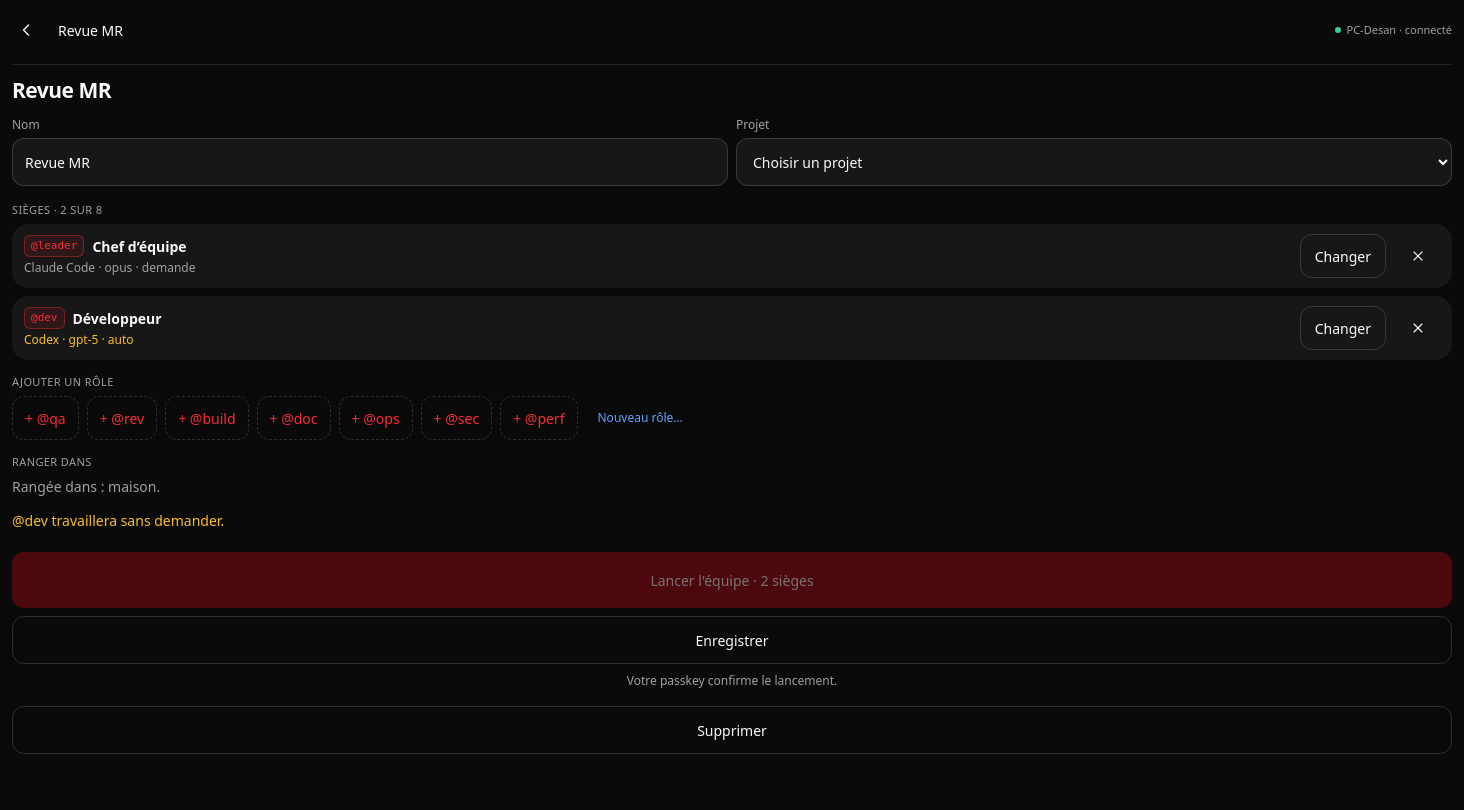
Test case: the team editor, seats › removing every seat disables launch and save
Select "ledge" in the dropdown labelled "Projet". click: (1094, 162)
box: top-left (736, 138), bottom-right (1452, 186)
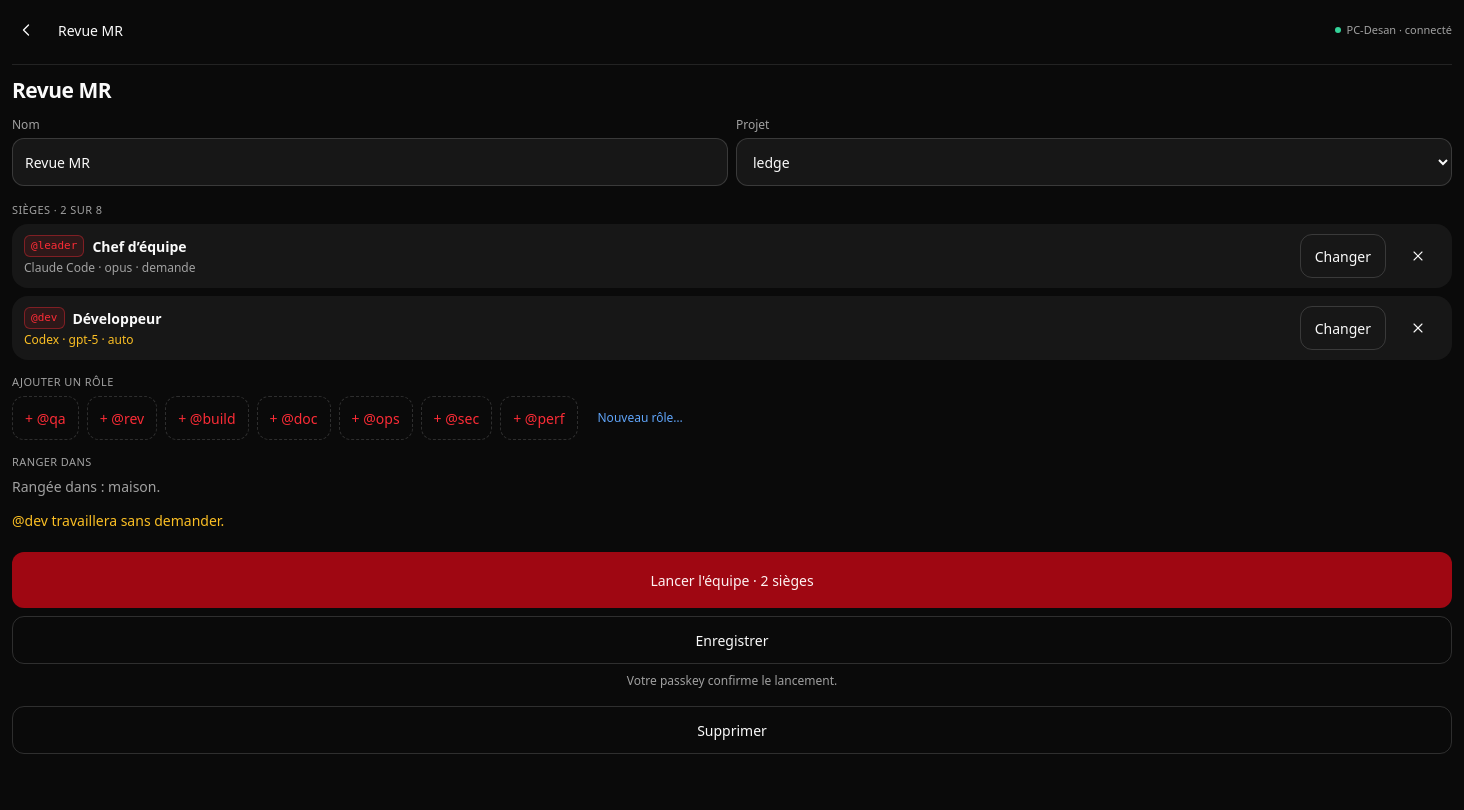
Expected: the button "Enregistrer" is enabled, top-left (12, 616), bottom-right (1452, 664)
Expected: the button "Lancer l'équipe · 2 sièges" is enabled, top-left (12, 552), bottom-right (1452, 608)
Click the button named "Retirer @leader". click: (1418, 256)
box: top-left (1396, 234), bottom-right (1440, 278)
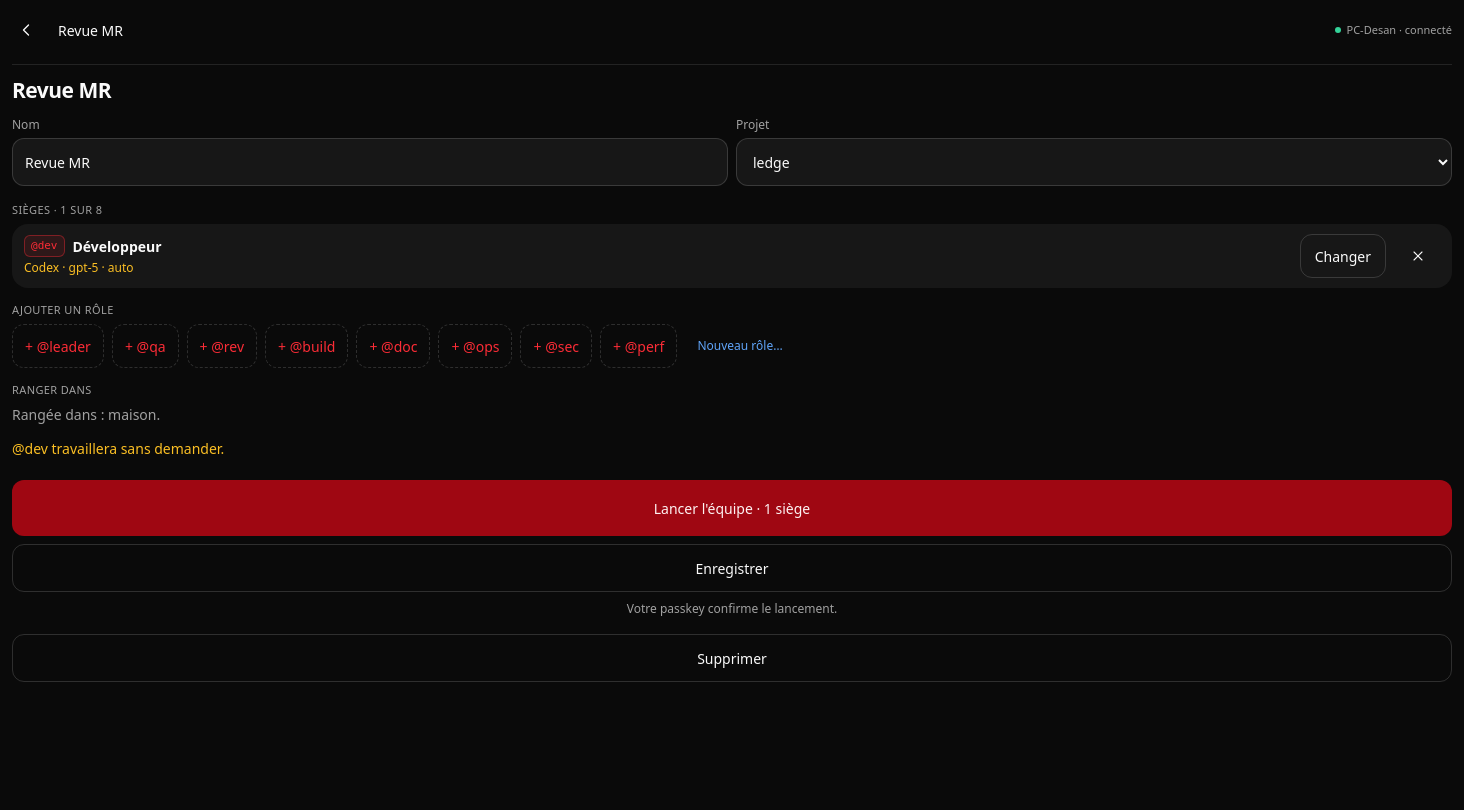
Click the button named "Retirer @dev". click: (1418, 256)
box: top-left (1396, 234), bottom-right (1440, 278)
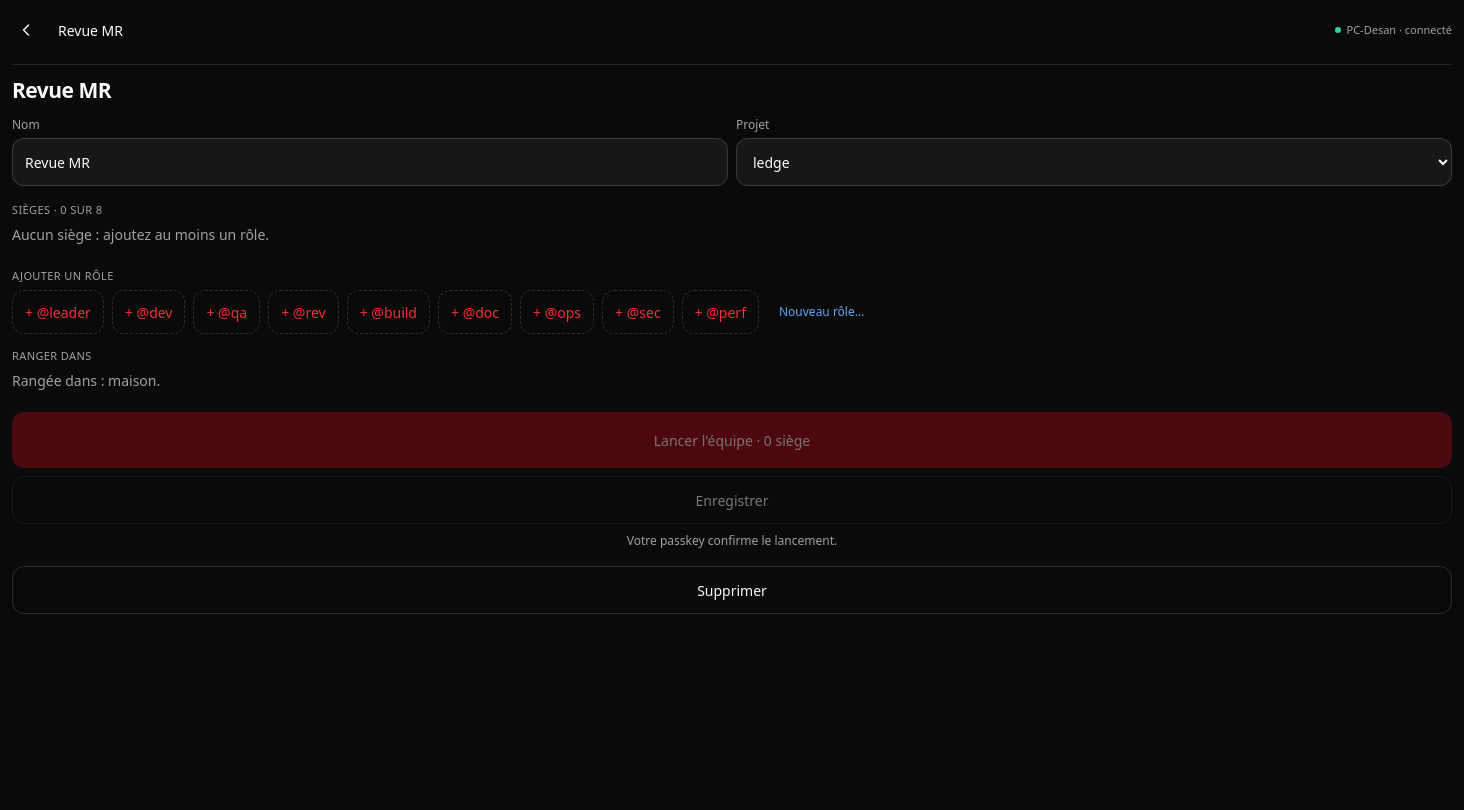
Expected: the button "Lancer l'équipe · 0 siège" is disabled, top-left (12, 412), bottom-right (1452, 468)
Expected: the button "Enregistrer" is disabled, top-left (12, 476), bottom-right (1452, 524)
